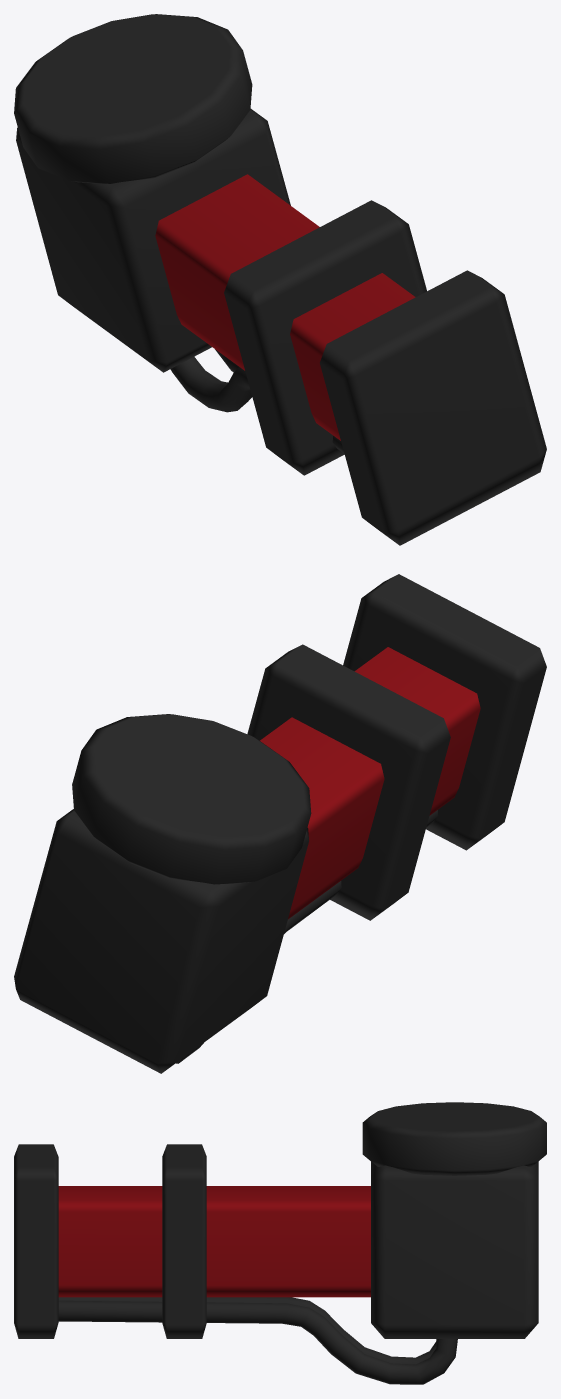
The model's file is Ship_enemy_06_Weapon_R.fbx.
3 renders of one model, top to bottom at view 1: azimuth 30°, elevation 25°; view 2: azimuth 150°, elevation 25°; view 3: azimuth 270°, elevation 25°, orthographic. The views are drawn at different scales.
Visible parts, largest first — view 1: Ship_enemy_06_Weapon_R; view 2: Ship_enemy_06_Weapon_R; view 3: Ship_enemy_06_Weapon_R.
Boxes of the visible parts, x1=… form: Ship_enemy_06_Weapon_R: x1=14, y1=14, x2=546, y2=545; Ship_enemy_06_Weapon_R: x1=14, y1=574, x2=546, y2=1073; Ship_enemy_06_Weapon_R: x1=14, y1=1102, x2=546, y2=1384.
Size of the model in its own units: 80.65 by 110 by 203.
